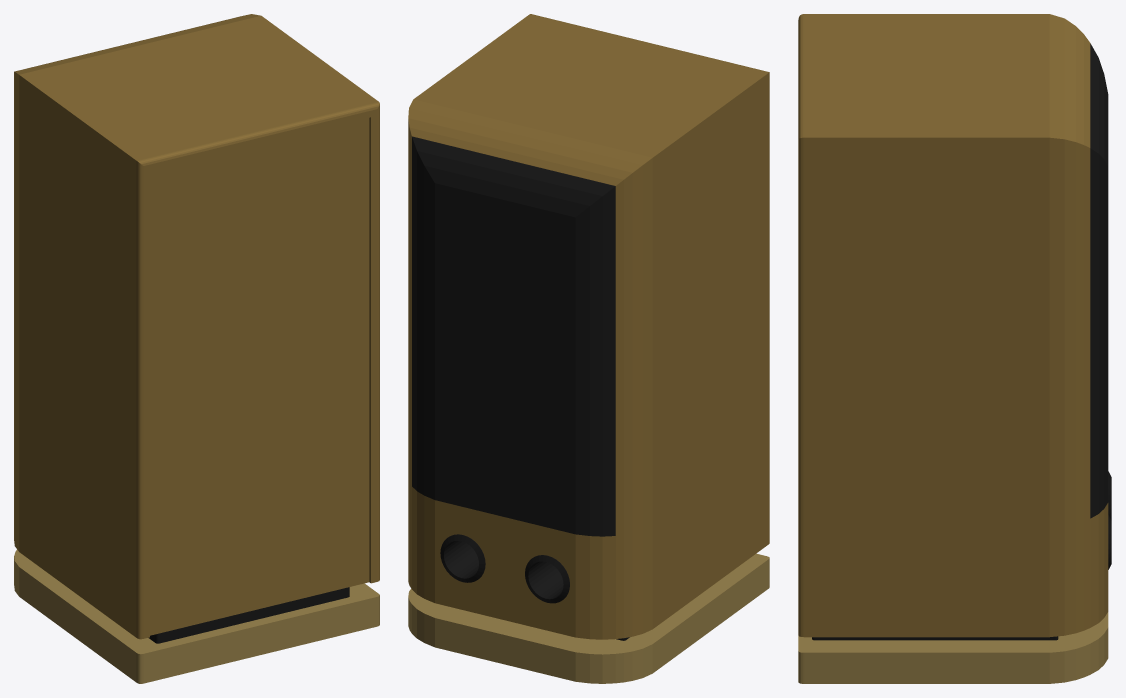
The model's file is hoparlor.fbx.
3 views of the same model, side by side, from view 1: azimuth 30°, elevation 25°; view 2: azimuth 150°, elevation 25°; view 3: azimuth 270°, elevation 25° (orthographic). The views are drawn at different scales.
Visible parts, largest first — view 1: _Main Speaker, _Main Speaker.004; view 2: _Main Speaker, _Main Speaker.003, _Main Speaker.002, _Main Speaker.001; view 3: _Main Speaker, _Main Speaker.003, _Main Speaker.004.
Boxes of the visible parts, left/top/right/bottom form: _Main Speaker: left=14, top=14, right=379, bottom=683; _Main Speaker.004: left=148, top=587, right=349, bottom=643; _Main Speaker: left=408, top=14, right=769, bottom=683; _Main Speaker.003: left=412, top=137, right=615, bottom=536; _Main Speaker.002: left=440, top=534, right=485, bottom=582; _Main Speaker.001: left=525, top=555, right=569, bottom=603; _Main Speaker: left=798, top=14, right=1108, bottom=683; _Main Speaker.003: left=1090, top=44, right=1108, bottom=517; _Main Speaker.004: left=812, top=636, right=1058, bottom=640.
Size of the model in its own units: 17 by 35 by 18.2.
